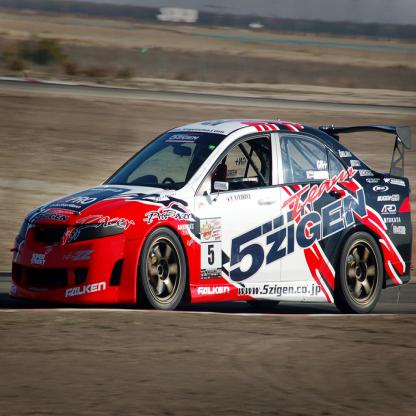Car: (10, 118, 412, 312)
